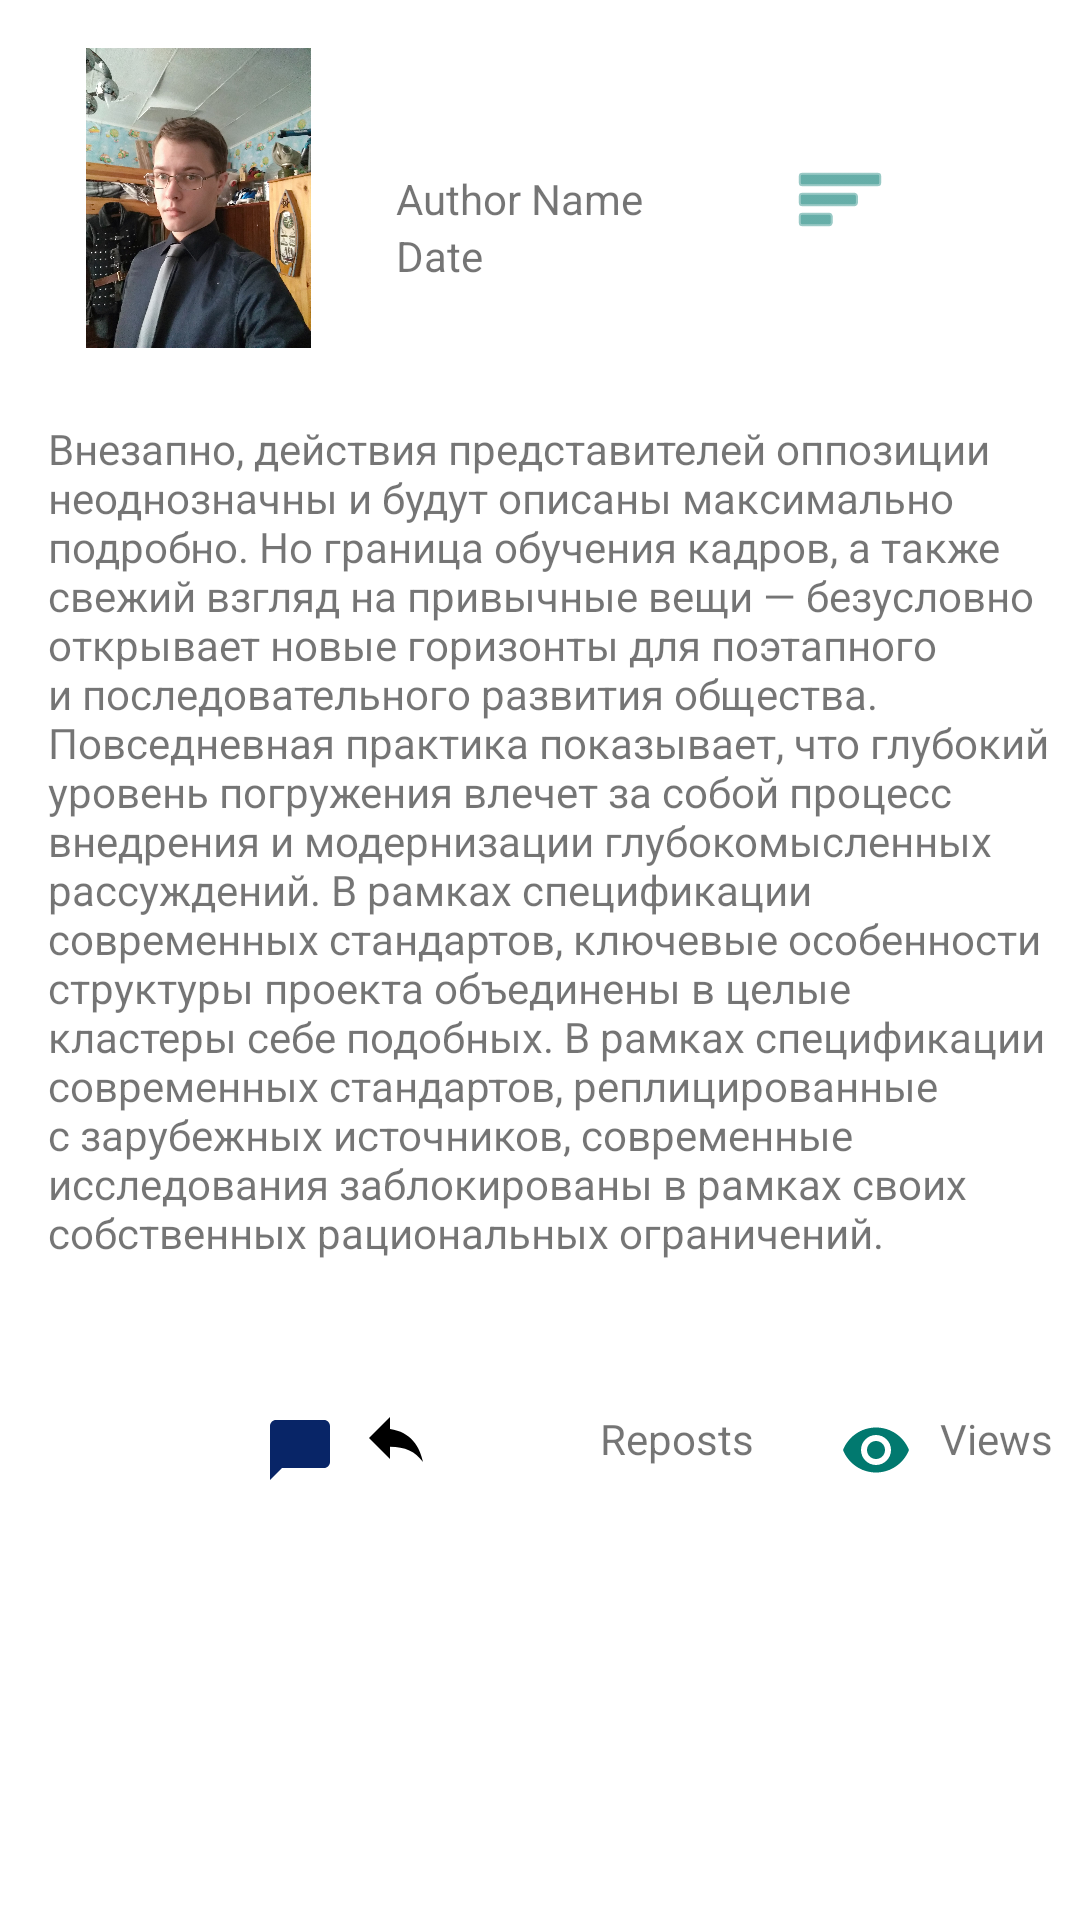

Locate icon controls on the screen. Image size 1080w x 1920h, boxes as (x1,y1,x2,y2).
avatarka: (86,48,311,348)
comments: (270,1420,330,1480)
sort by size: (799,173,881,226)
